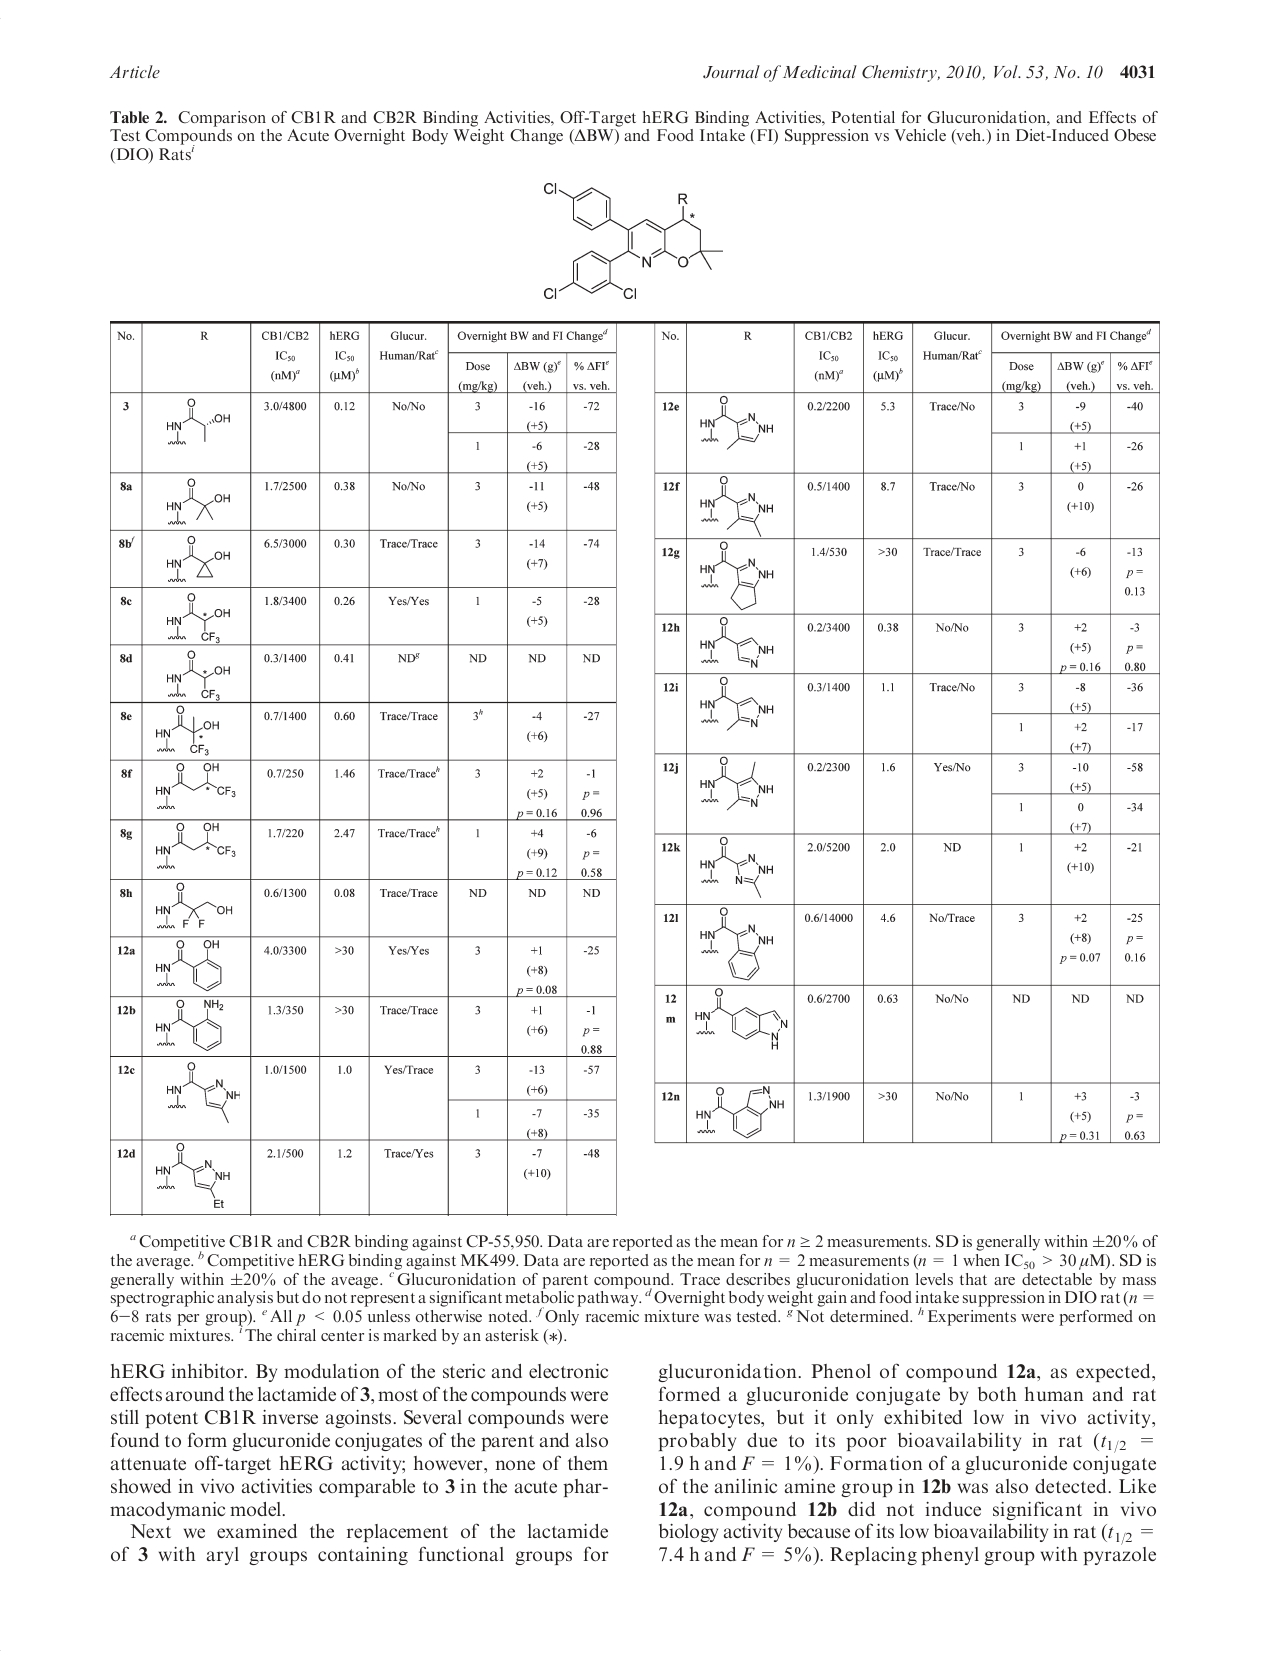exist_molecular: (533, 177, 729, 309), (693, 987, 793, 1055), (696, 906, 782, 981), (692, 833, 781, 906), (154, 1059, 245, 1125), (699, 540, 779, 612), (149, 1142, 229, 1209), (694, 755, 777, 818), (697, 475, 778, 537), (693, 1085, 787, 1138), (152, 818, 243, 872), (696, 612, 778, 672), (698, 676, 778, 737), (153, 759, 241, 813), (152, 880, 234, 932), (697, 392, 777, 446), (144, 938, 225, 989), (152, 477, 237, 527), (149, 999, 227, 1052), (150, 702, 223, 757), (158, 535, 237, 585), (158, 396, 233, 449), (160, 648, 235, 700), (161, 592, 235, 642)
